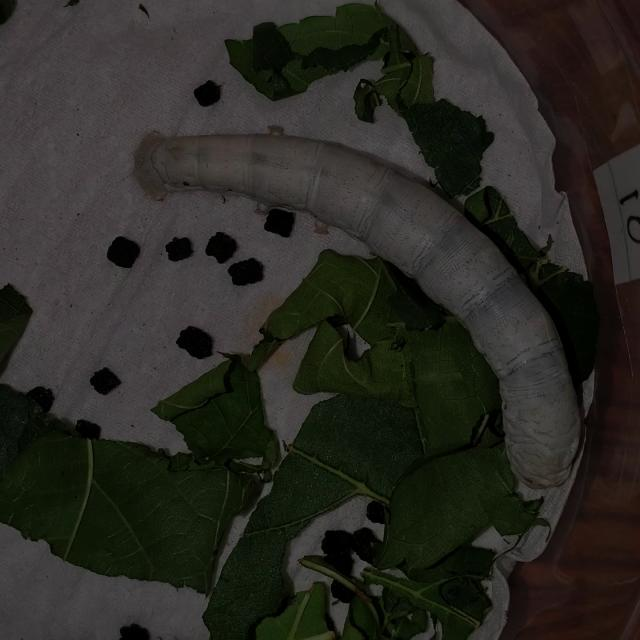Healthy: (126, 120, 584, 496)
